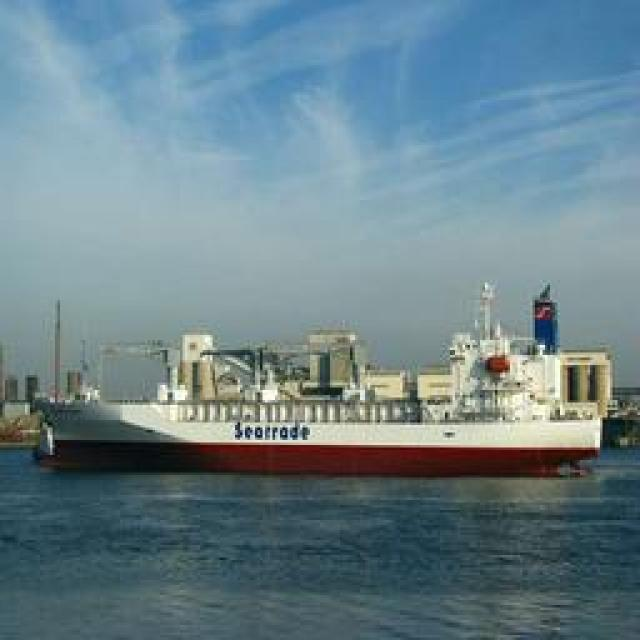ship2: (37, 274, 613, 478)
